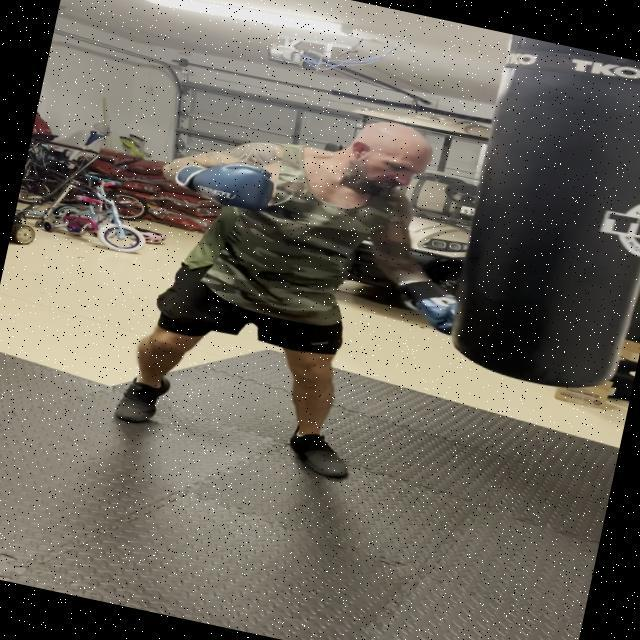bag: (431, 31, 640, 402)
uppercut: (160, 72, 537, 351)
